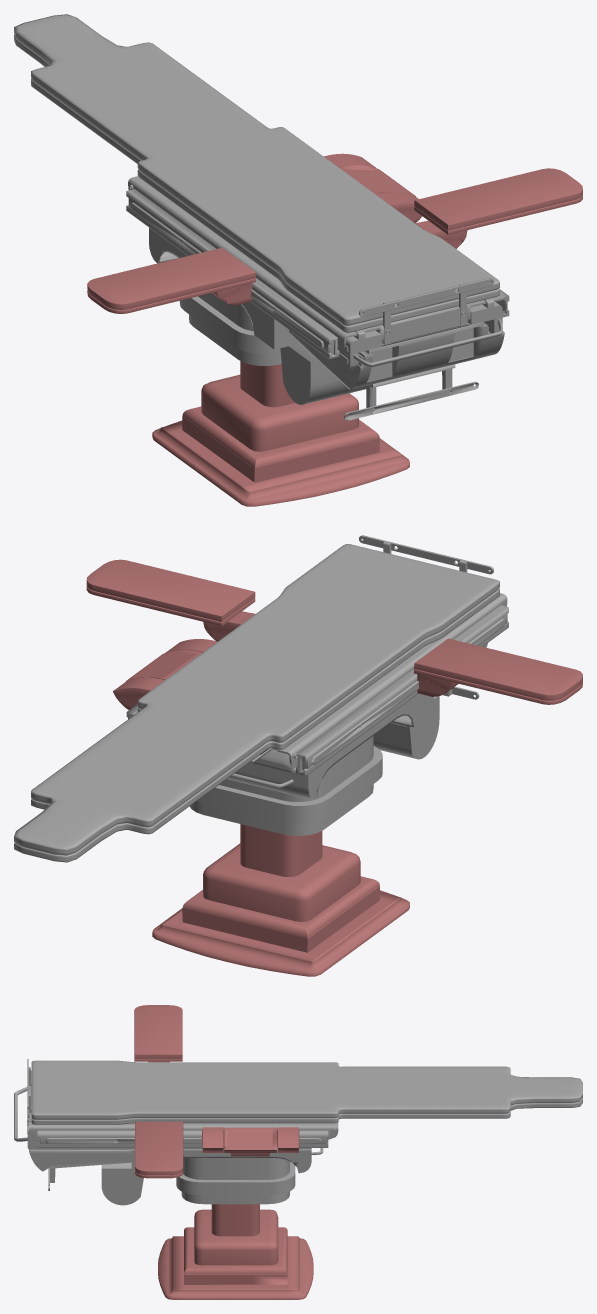
The model's file is Neuromonitoring_Bed.fbx.
3 views of the same model, one above another, from view 1: azimuth 30°, elevation 25°; view 2: azimuth 150°, elevation 25°; view 3: azimuth 270°, elevation 25° (orthographic). The views are drawn at different scales.
Visible parts, largest first — view 1: Bed_Top, Bed_Base, Bed_Addon_Armrest_Left, Bed_Addon_Armrest_Right, Bed_Addon_Screen; view 2: Bed_Top, Bed_Base, Bed_Addon_Armrest_Left, Bed_Addon_Armrest_Right, Bed_Addon_Screen; view 3: Bed_Top, Bed_Base, Bed_Addon_Armrest_Right, Bed_Addon_Armrest_Left, Bed_Addon_Screen.
Part boxes in pixels (<box>): Bed_Top: <box>14,14,509,420</box>; Bed_Base: <box>152,361,409,506</box>; Bed_Addon_Armrest_Left: <box>87,247,255,313</box>; Bed_Addon_Armrest_Right: <box>414,168,582,248</box>; Bed_Addon_Screen: <box>324,153,422,222</box>; Bed_Top: <box>14,535,508,862</box>; Bed_Base: <box>152,824,409,976</box>; Bed_Addon_Armrest_Left: <box>414,638,582,704</box>; Bed_Addon_Armrest_Right: <box>86,559,255,641</box>; Bed_Addon_Screen: <box>113,639,217,709</box>; Bed_Top: <box>14,1059,582,1205</box>; Bed_Base: <box>158,1204,313,1299</box>; Bed_Addon_Armrest_Right: <box>135,1121,183,1178</box>; Bed_Addon_Armrest_Left: <box>134,1005,182,1062</box>; Bed_Addon_Screen: <box>202,1127,299,1156</box>.
Bounding box in the file's own units: 163 × 86.65 × 236.
